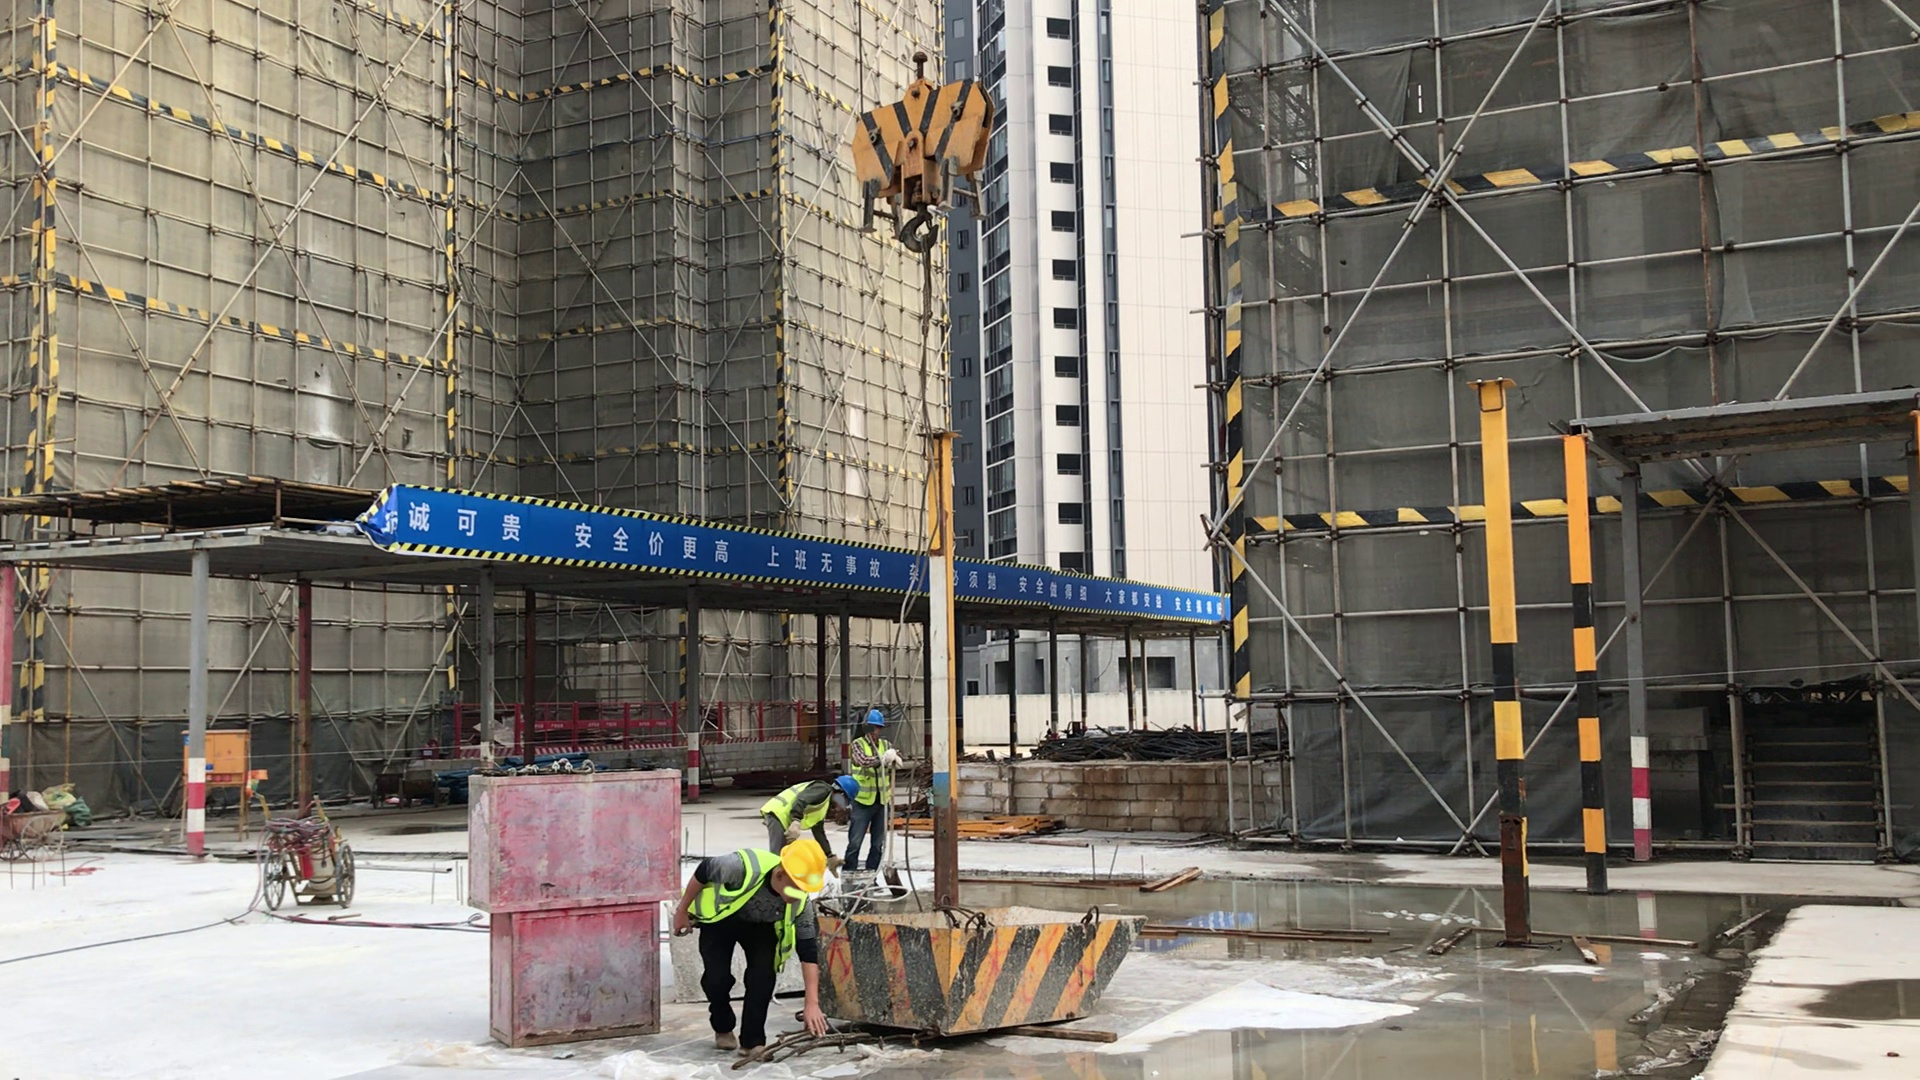ebox: (215, 720, 265, 845)
fence: (402, 489, 904, 587), (958, 560, 1226, 624), (543, 694, 676, 752), (716, 701, 818, 743)
handcart: (252, 791, 356, 915), (1, 809, 59, 864)
helmet: (781, 839, 829, 895), (835, 774, 860, 801), (860, 710, 884, 728)
hook: (854, 50, 996, 258)
hopper: (811, 898, 1150, 1028)
person: (671, 838, 829, 1064), (845, 708, 904, 876), (757, 772, 860, 851)
vest: (685, 845, 796, 975), (761, 778, 832, 833), (852, 737, 895, 806)
